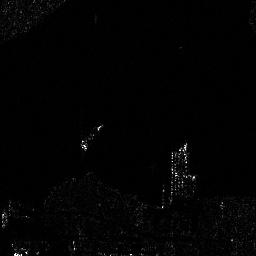ship: (79, 123, 104, 150)
